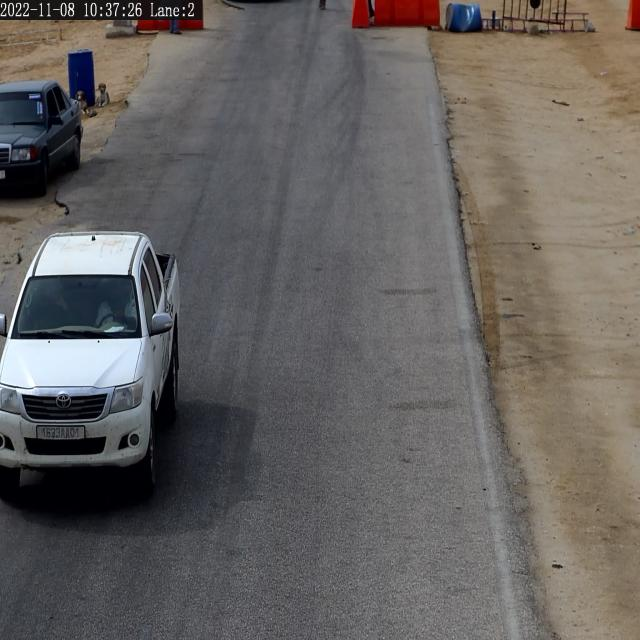BUS: (37, 426, 84, 439)
